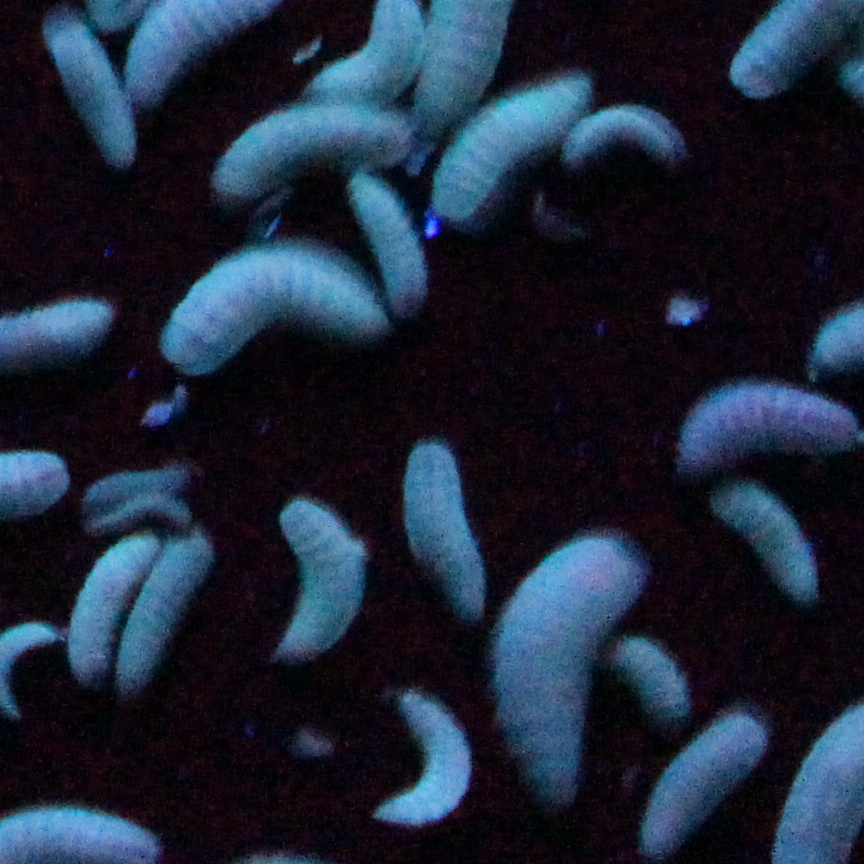larve: (499, 534, 648, 794), (157, 250, 383, 376), (432, 85, 577, 216), (641, 712, 772, 852), (212, 108, 410, 199), (397, 443, 490, 623), (119, 532, 214, 694), (272, 496, 366, 659), (43, 3, 132, 163), (368, 690, 472, 823), (68, 541, 163, 679), (714, 479, 821, 599), (343, 172, 428, 312), (568, 105, 683, 163), (614, 641, 694, 716), (88, 470, 194, 521)
